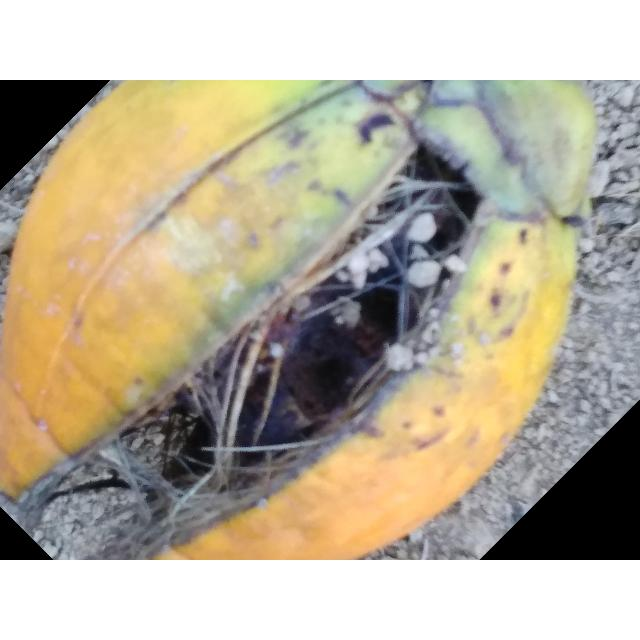damaged: (0, 80, 598, 560)
